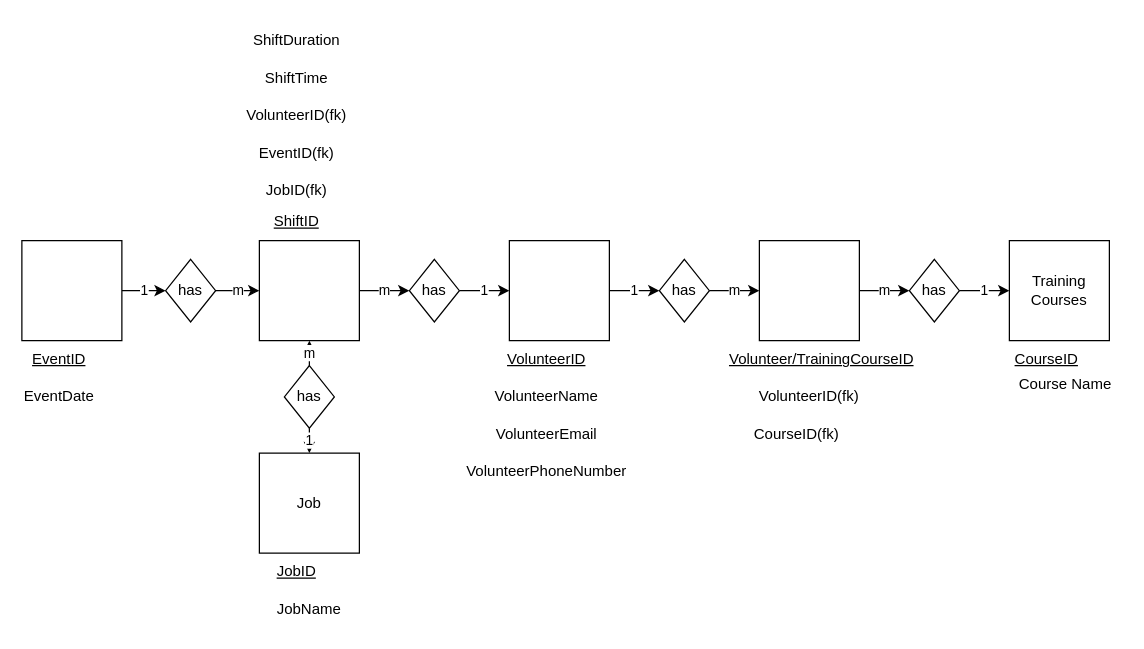
This 1144x649 diagram has some shape labels left out. Here are the shapes that lost their labels. From the top down, the box of each, then its label:
(21, 239, 122, 341): Event
(258, 239, 359, 341): shifts
(508, 239, 609, 341): volunteers
(758, 239, 859, 341): Volunteers/ Training courses
